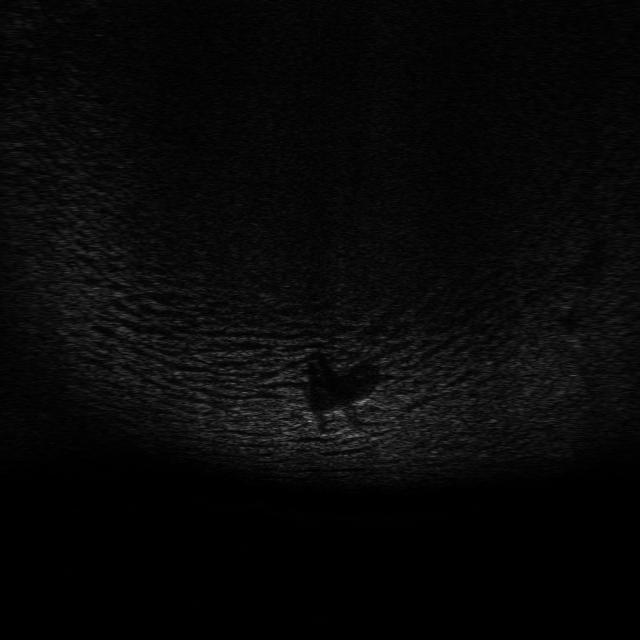plane: (303, 396, 367, 428)
